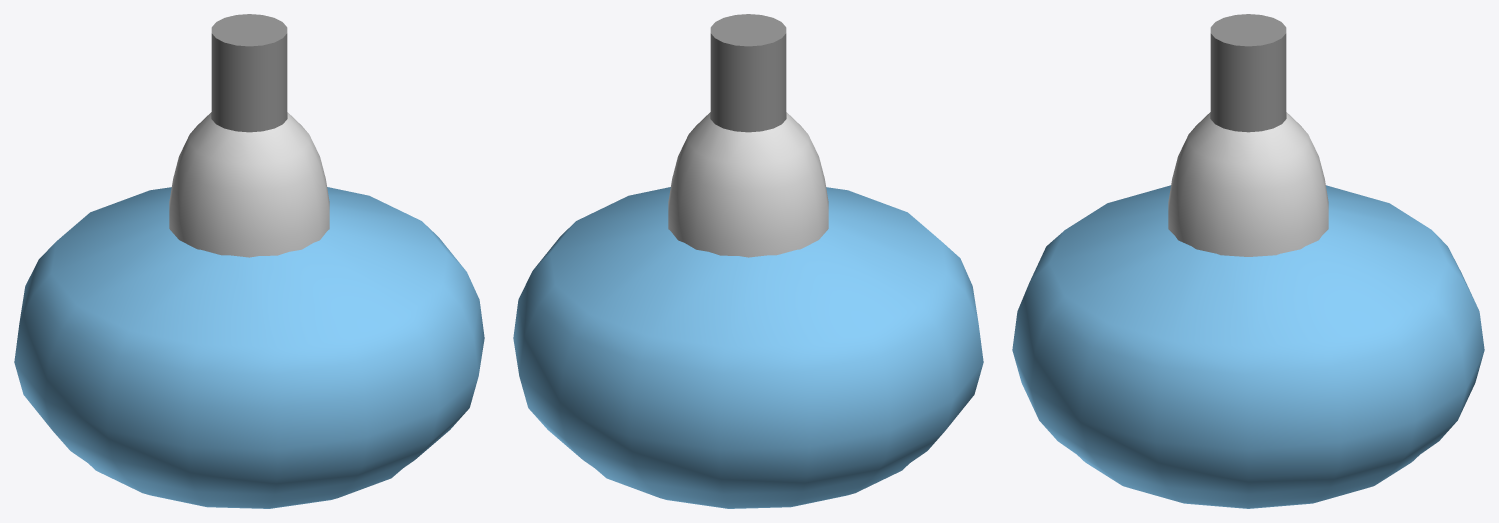
Rendered from AlcoholLamp.FBX.
3 renders of one model, left to right at view 1: azimuth 30°, elevation 25°; view 2: azimuth 150°, elevation 25°; view 3: azimuth 270°, elevation 25°, orthographic.
Visible parts, largest first — view 1: Teapot001, Cylinder002, Cylinder001; view 2: Teapot001, Cylinder002, Cylinder001; view 3: Teapot001, Cylinder002, Cylinder001.
Boxes of the visible parts, left/top/right/bottom form: Teapot001: left=14, top=187, right=484, bottom=508; Cylinder002: left=169, top=112, right=329, bottom=257; Cylinder001: left=211, top=14, right=287, bottom=132; Teapot001: left=513, top=187, right=983, bottom=508; Cylinder002: left=668, top=112, right=828, bottom=257; Cylinder001: left=710, top=14, right=786, bottom=132; Teapot001: left=1012, top=185, right=1484, bottom=508; Cylinder002: left=1168, top=112, right=1328, bottom=256; Cylinder001: left=1210, top=14, right=1286, bottom=132.
Bounding box in the file's own units: 58.14 × 56.95 × 58.14.
